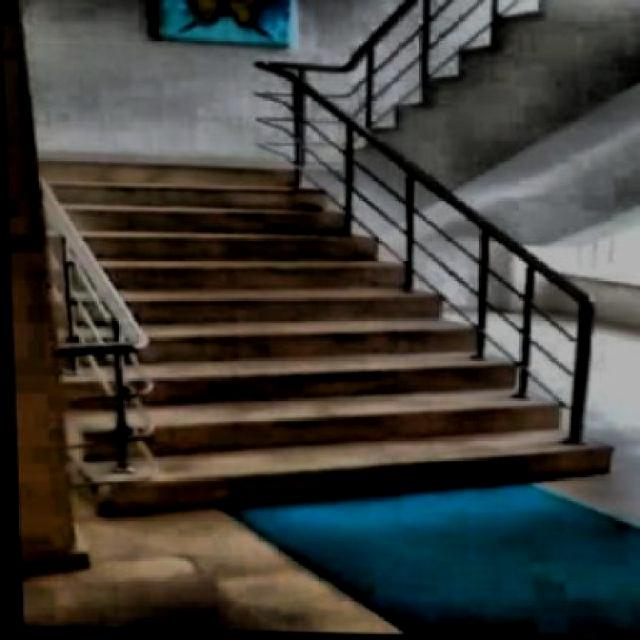stair: (55, 138, 596, 534)
